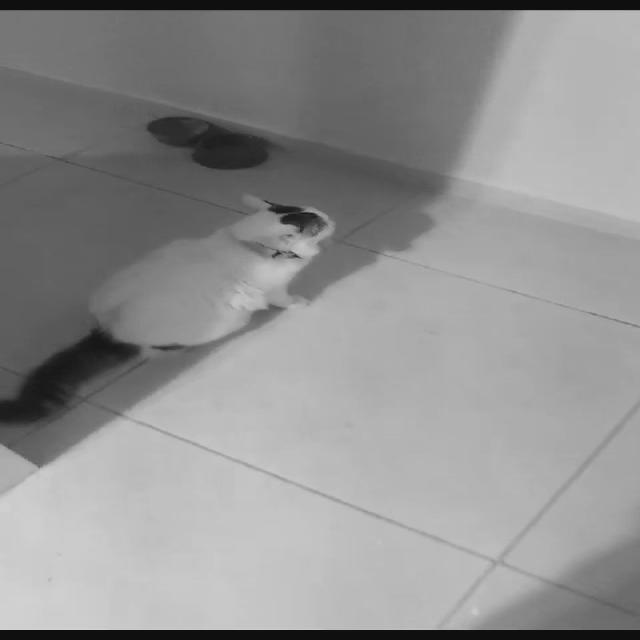Simba: (89, 195, 349, 375)
